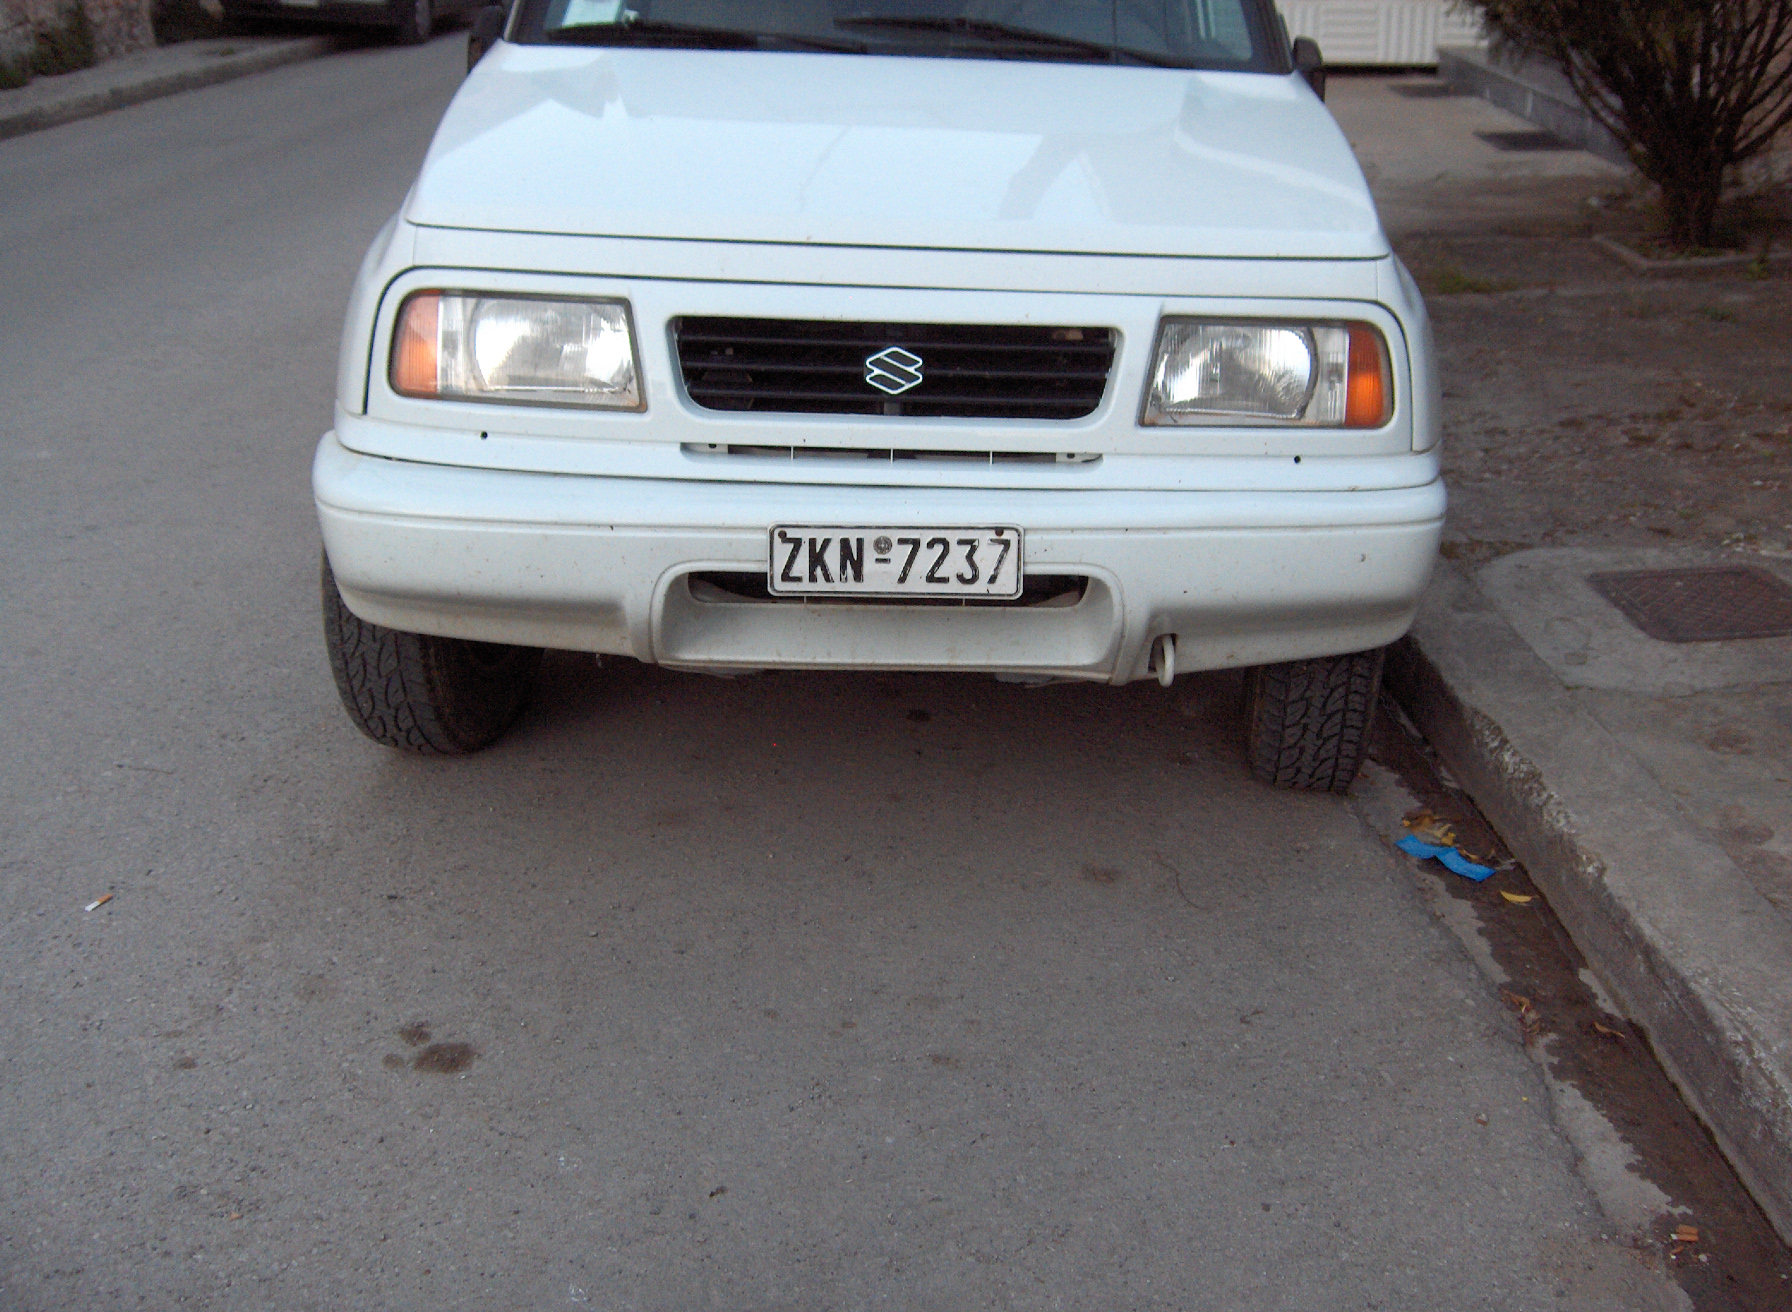licenseplate: (763, 521, 1025, 602)
